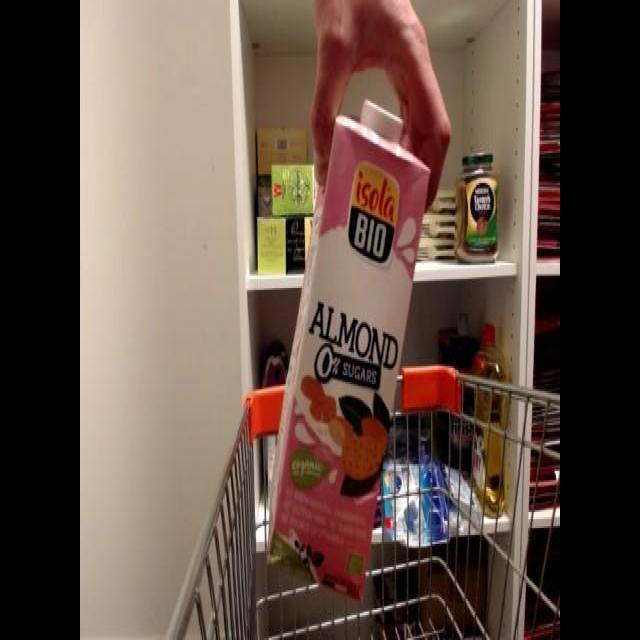Almond Milk: (263, 89, 435, 610)
